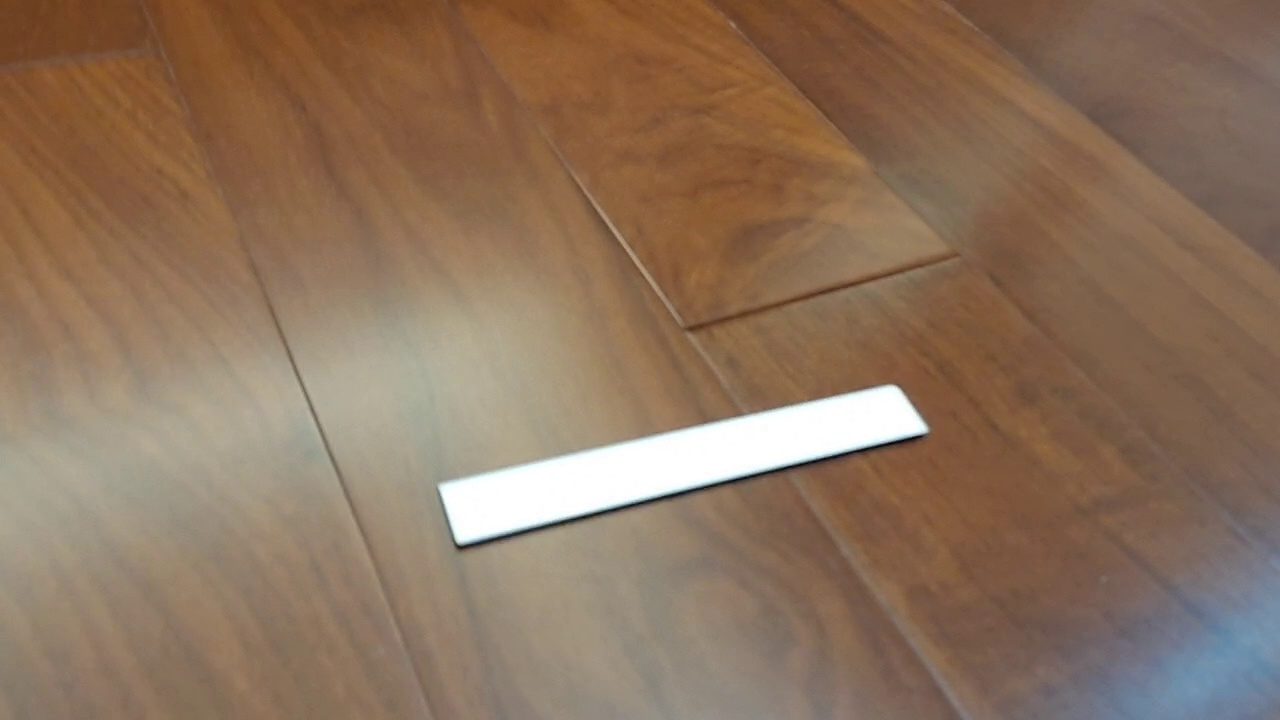ruler: (434, 382, 931, 551)
